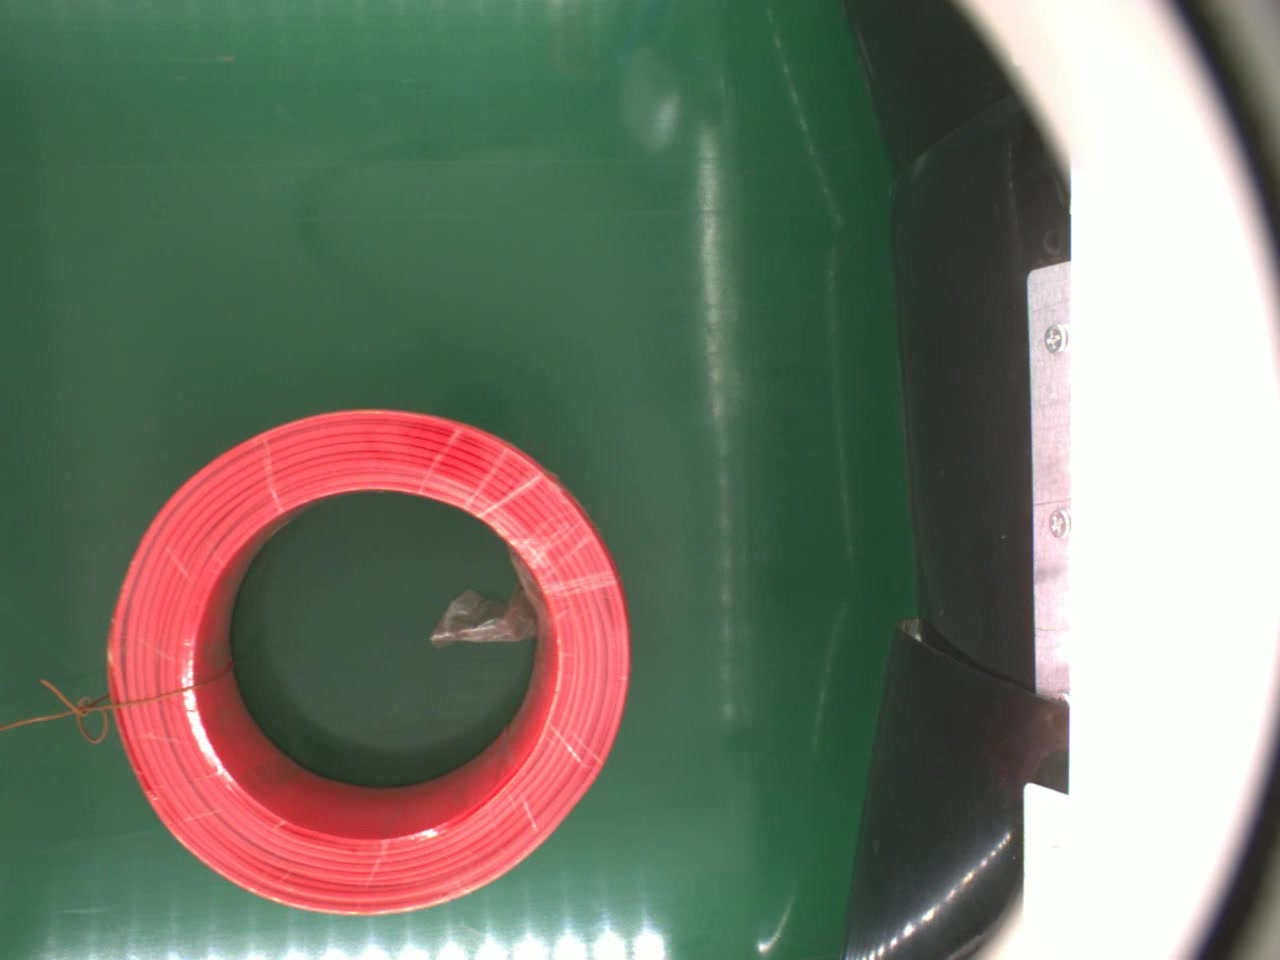red: (105, 404, 636, 921)
